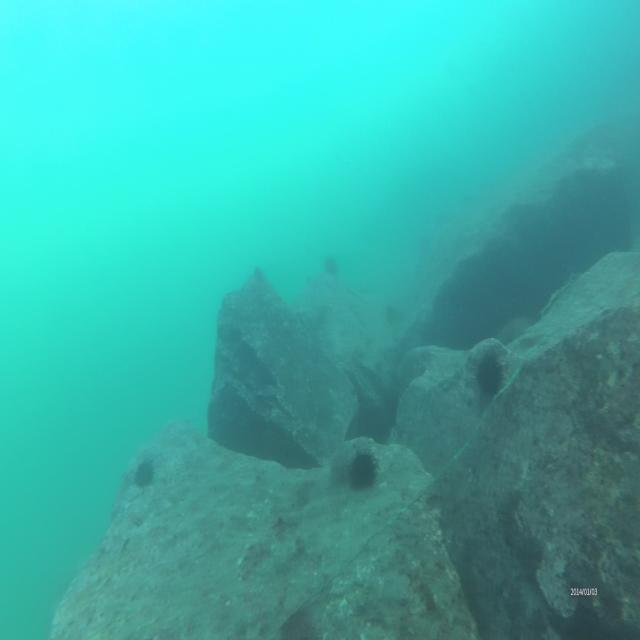echinus: (475, 348, 506, 401), (348, 450, 377, 492), (134, 458, 154, 488)
